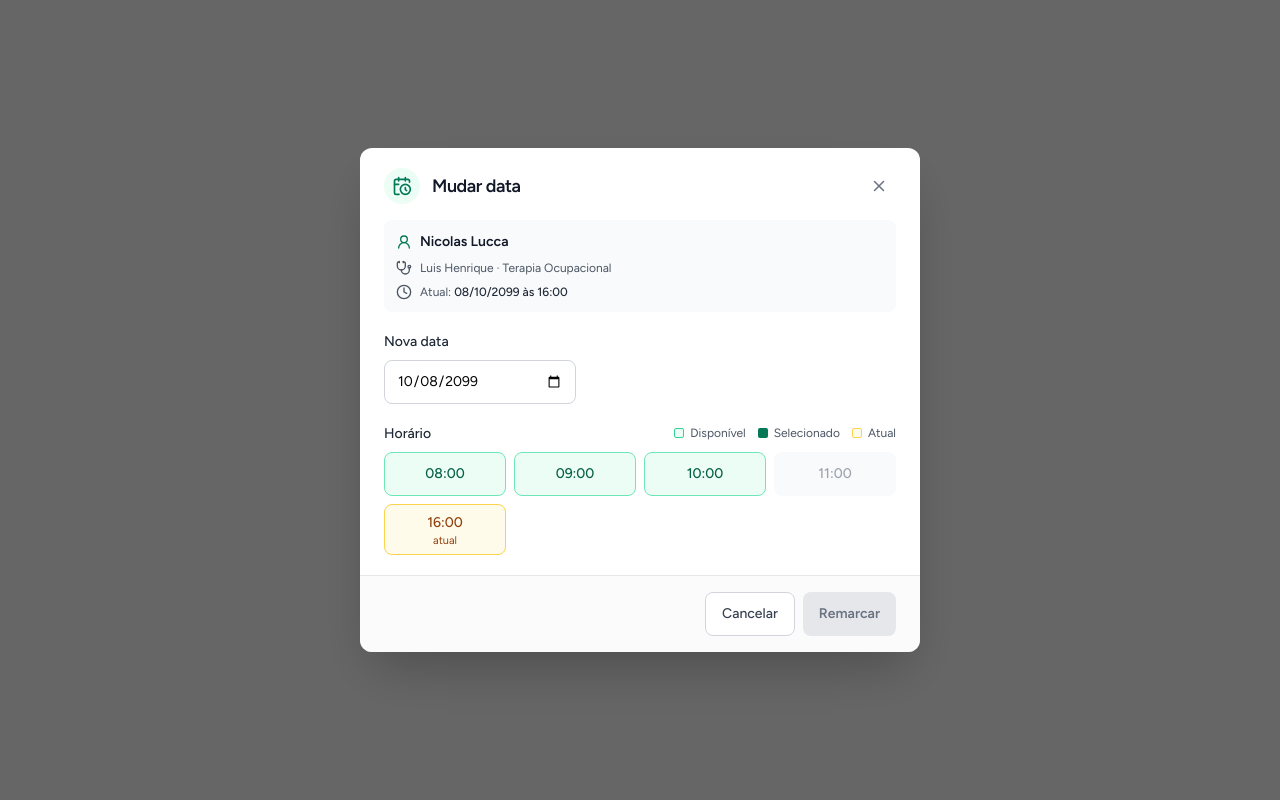
Test case: RescheduleDialog › mostra o erro da API inline e não fecha quando a remarcação falha (ex.: guia vencida)
Click the option "09:00" at (575, 474), box [514, 452, 636, 496]
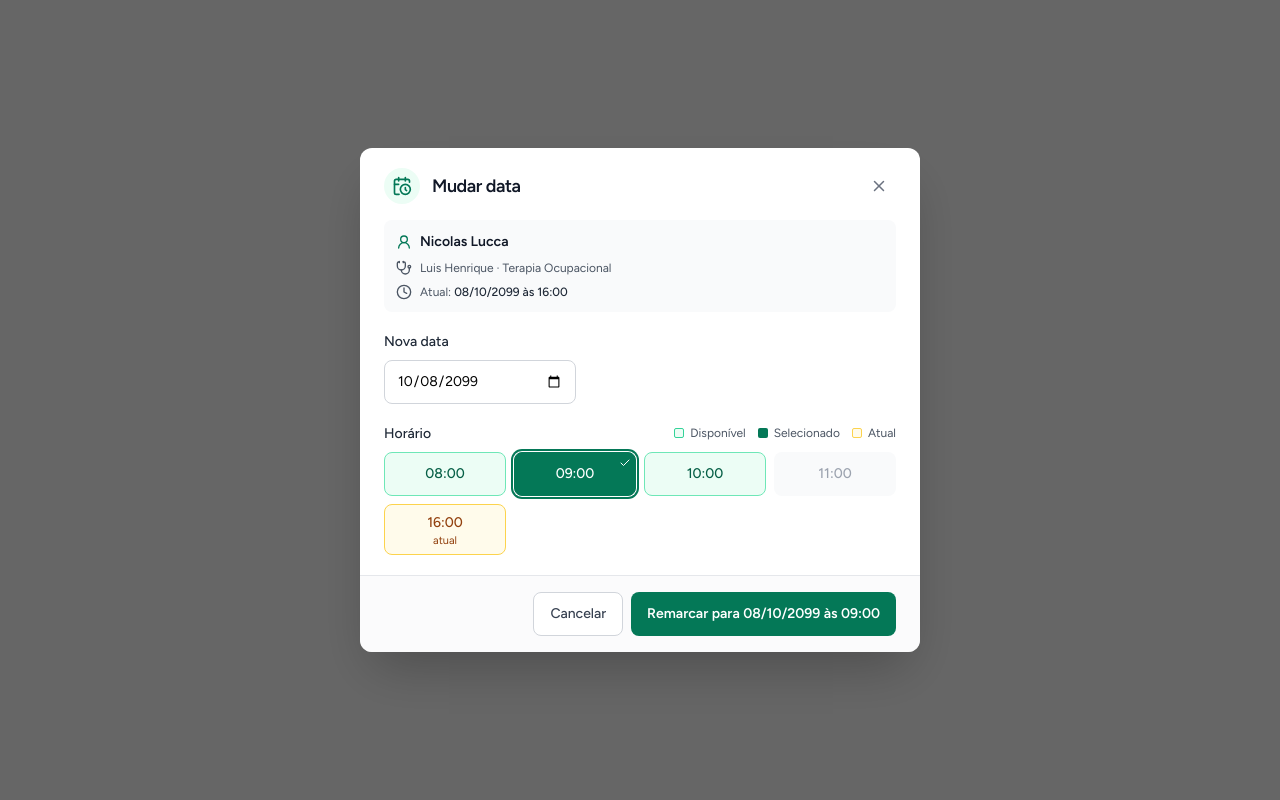
Click the button "Remarcar para 08/10/2099 às 09:00" at (764, 614), box [631, 592, 896, 636]
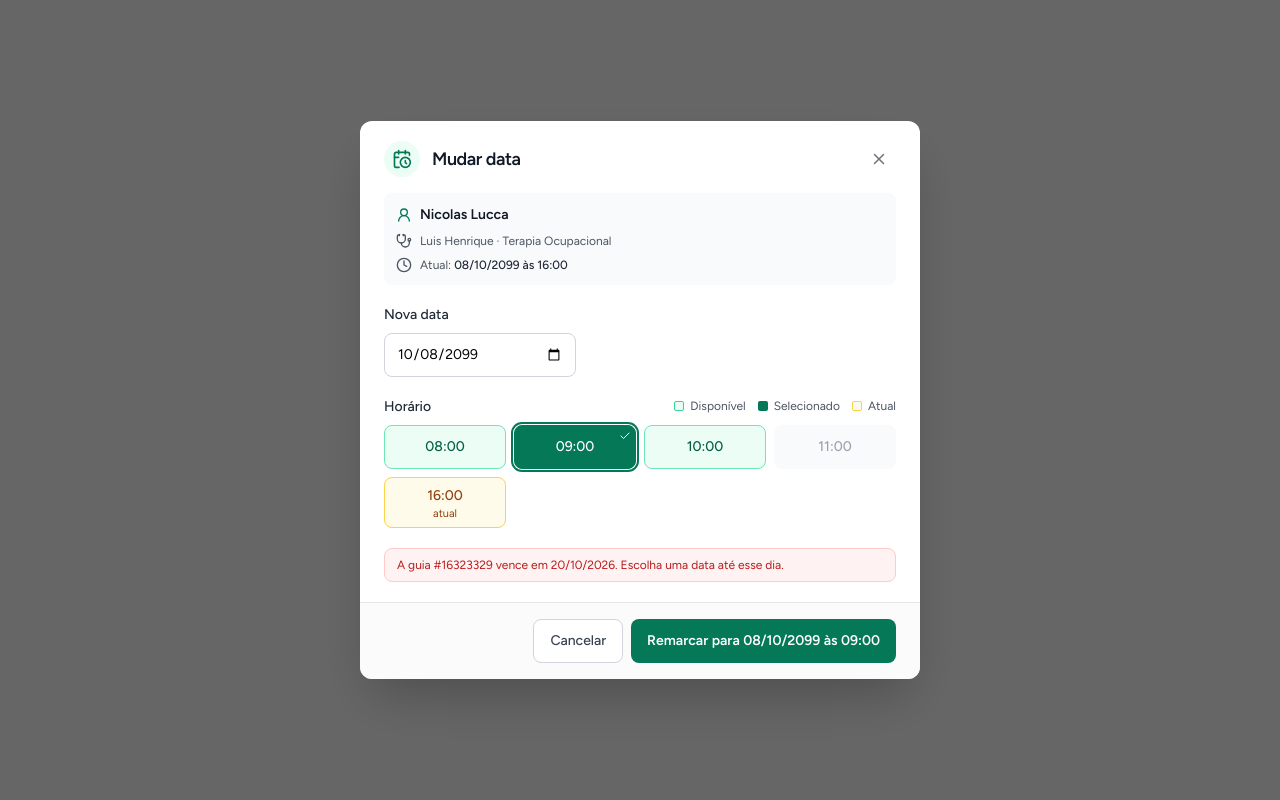
Result: the button "Remarcar para 08/10/2099 às 09:00" is enabled at [631, 619, 896, 663]
Result: the message shows "vence em 20/10/2026" at [397, 558, 784, 572]
